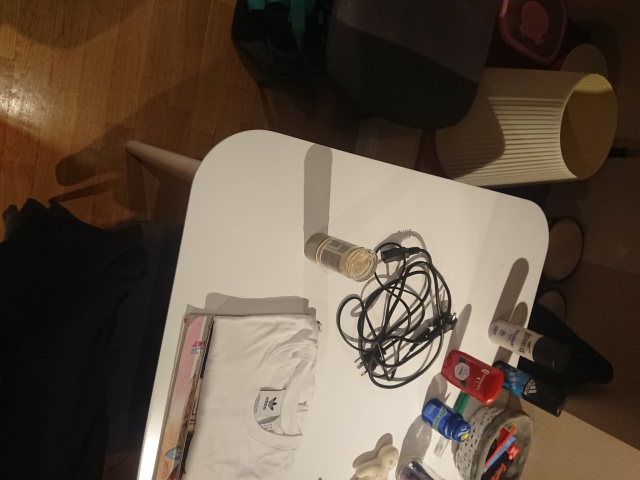Kotanyi Garlic Granules 70g: (302, 232, 379, 284)
